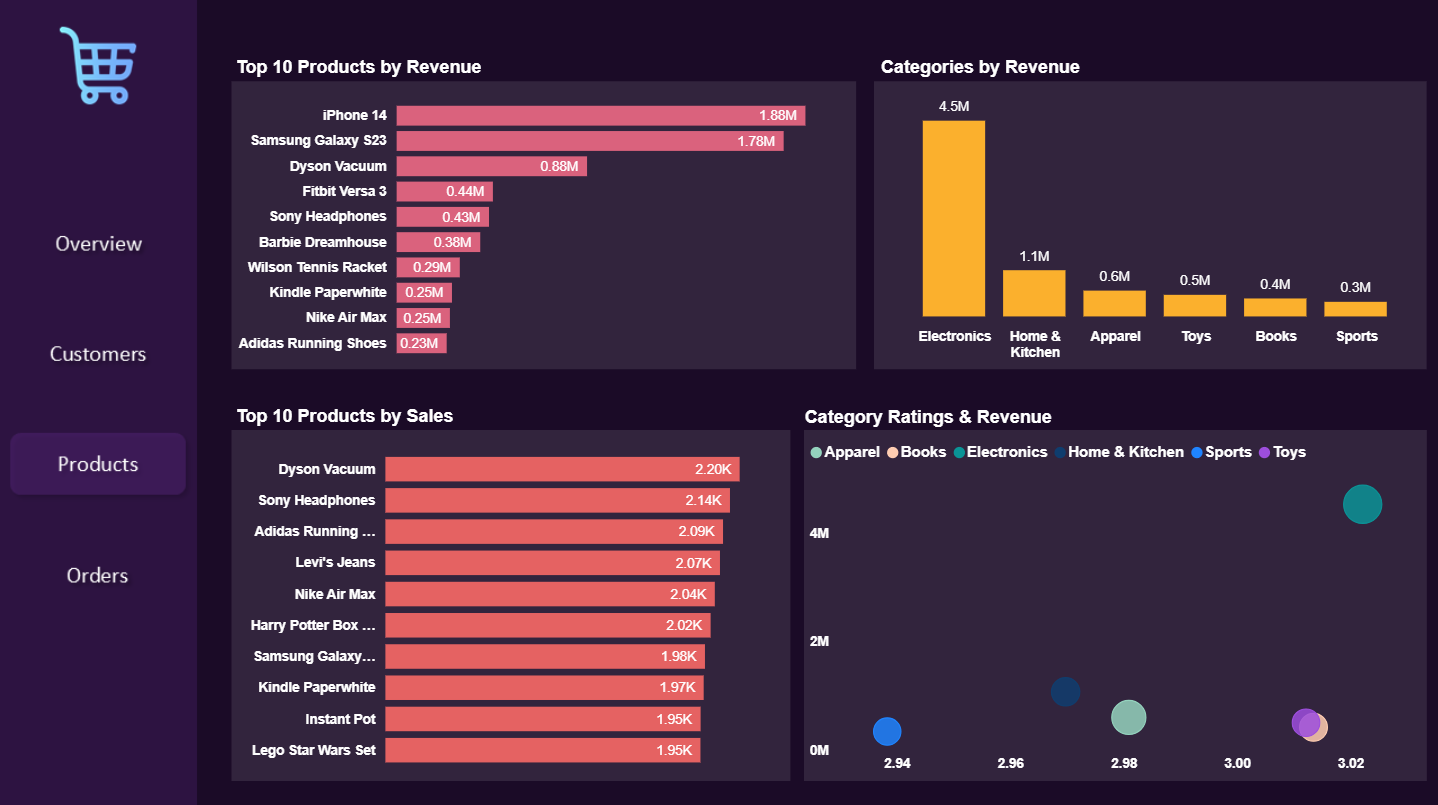

This screenshot's page, from the dashboard's own definition file:
{"tool":"powerbi","page":{"name":"Products","canvas":[1280,720],"ordinal":2},"visuals":[{"type":"actionButton","box":[11.2,286.2,156.2,57.5],"z":0},{"type":"actionButton","box":[11.2,482.5,156.2,57.5],"z":1000},{"type":"actionButton","box":[11.2,190,156.2,57.5],"z":2000},{"type":"barChart","fields":{"Category":["customers.product_name"],"Y":["Sum(customers.quantity)"]},"box":[206.7,382.2,496.7,312.2],"z":3000},{"type":"columnChart","fields":{"Category":["customers.category"],"Y":["customers.Total Revenue"]},"box":[777.5,72.5,491.2,256.2],"z":4000},{"type":"scatterChart","fields":{"Category":["customers.category"],"X":["Avg(customers.rating)"],"Y":["customers.Total Revenue"],"Size":["Sum(customers.quantity)"],"Series":["customers.category"]},"box":[715.6,382.2,553.3,312.2],"z":5000},{"type":"barChart","fields":{"Category":["customers.product_name"],"Y":["customers.Total Revenue"]},"box":[206.2,72.5,555,256.2],"z":6000},{"type":"textbox","box":[205.6,45.6,315.6,34.4],"z":7000},{"type":"textbox","box":[778.8,45,316.2,35],"z":8000},{"type":"textbox","box":[205,355,316.2,35],"z":9000},{"type":"textbox","box":[711.1,356.7,314.4,33.3],"z":10000}]}

Visuals, with their boxes in screenshot pixels (x1, y1, x2, y2), scaled from the page's 1280x720 canvas onto the 1438x805 screenshot:
actionButton: BBox(13, 320, 188, 384)
actionButton: BBox(13, 539, 188, 604)
actionButton: BBox(13, 212, 188, 277)
barChart - customers.product_name x Sum(customers.quantity): BBox(232, 427, 790, 776)
columnChart - customers.category x customers.Total Revenue: BBox(873, 81, 1425, 368)
scatterChart - customers.category x Avg(customers.rating): BBox(804, 427, 1426, 776)
barChart - customers.product_name x customers.Total Revenue: BBox(232, 81, 855, 368)
textbox: BBox(231, 51, 586, 89)
textbox: BBox(875, 50, 1230, 89)
textbox: BBox(230, 397, 586, 436)
textbox: BBox(799, 399, 1152, 436)
